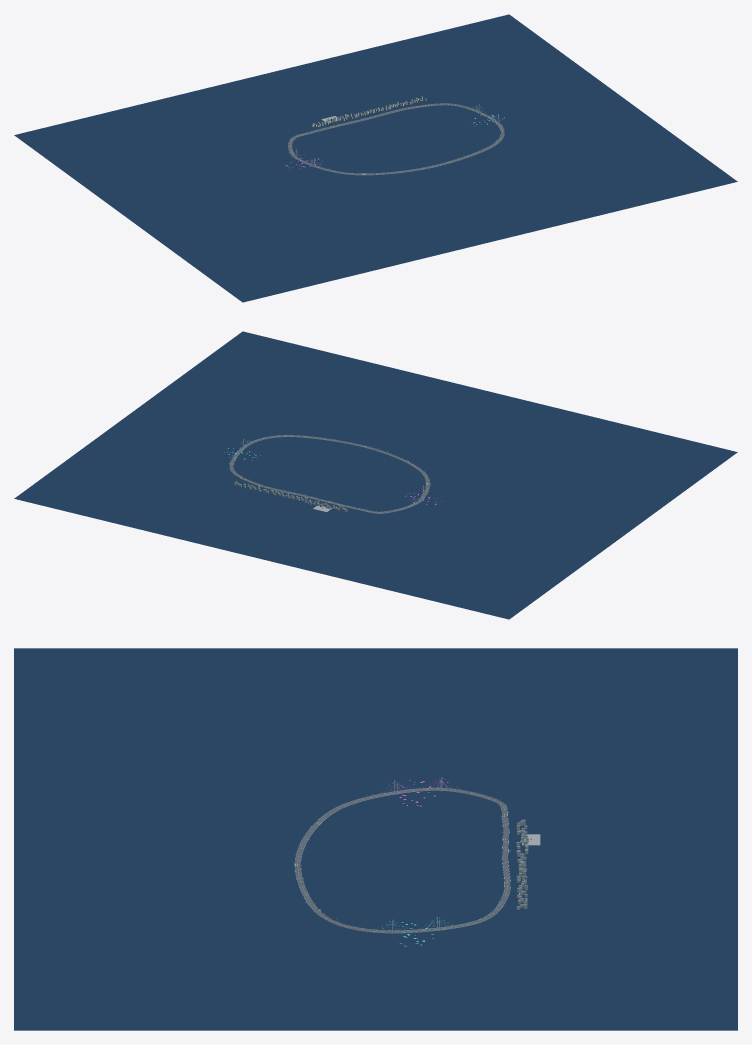
Rendered from yeosu.glb.
3 views of the same model, one above another, from view 1: azimuth 30°, elevation 25°; view 2: azimuth 150°, elevation 25°; view 3: azimuth 270°, elevation 25° (orthographic). The views are drawn at different scales.
Parts seen in each view (by area): view 1: Terrain, Road_Asphalt_0; view 2: Terrain, Road_Asphalt_0; view 3: Terrain, Road_Asphalt_0.
Part boxes in pixels (x1,y1,x2,y2): Terrain: (14,14,737,302); Road_Asphalt_0: (288,103,504,174); Terrain: (14,331,737,619); Road_Asphalt_0: (230,435,429,513); Terrain: (14,648,737,1030); Road_Asphalt_0: (295,788,510,932).
Size of the model in its own units: 3500 by 63.51 by 2800.
